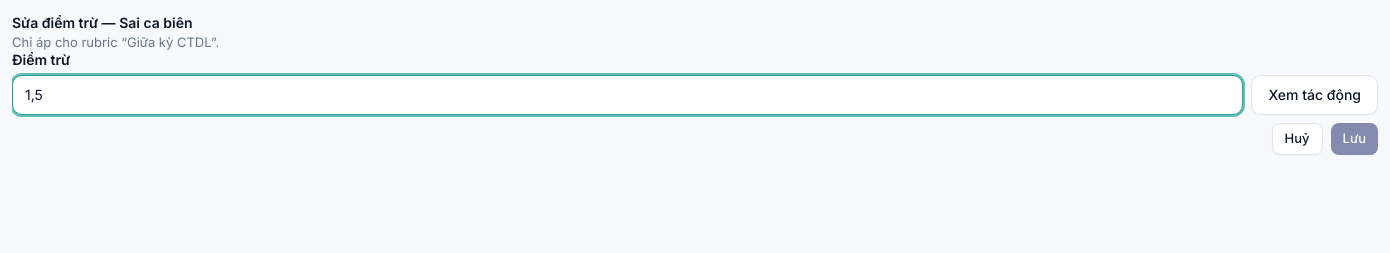
PricePopover (T-RBE-UI-4) › chưa áp vào bài nào thì nói vậy
What coordinates should you click on to do the following:
click the button "Xem tác động"
I would click on:
 (1315, 94)
Its box is [1251,74,1378,114].
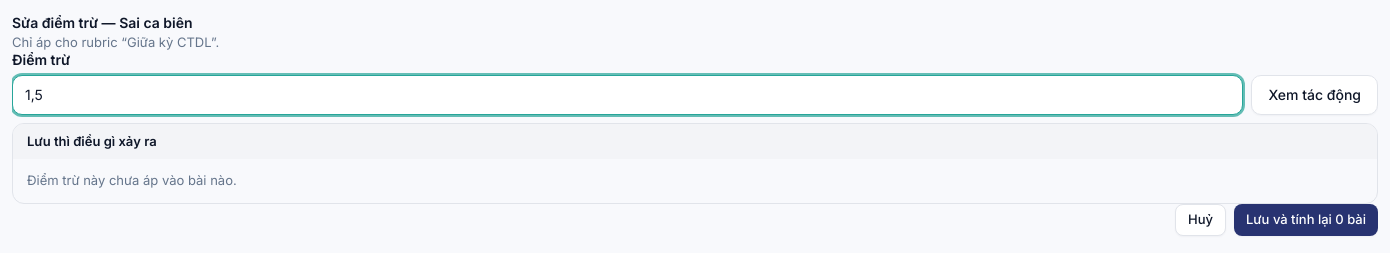
Check: the text "Điểm trừ này chưa áp vào bài nào." is shown, box [27,172,237,188]
